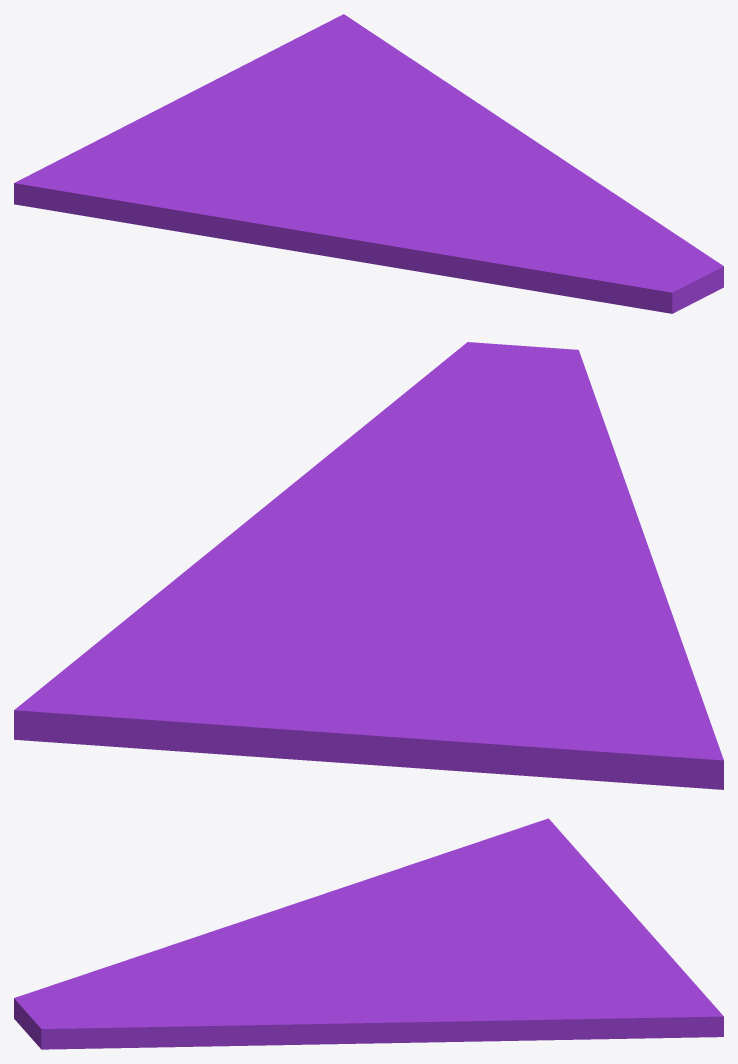
Rendered from StairsStep_29.fbx.
3 views of the same model, one above another, from view 1: azimuth 30°, elevation 25°; view 2: azimuth 150°, elevation 25°; view 3: azimuth 270°, elevation 25° (orthographic). The views are drawn at different scales.
Visible parts, largest first — view 1: StairsStep_29; view 2: StairsStep_29; view 3: StairsStep_29.
Boxes of the visible parts, bbox=[...] form: StairsStep_29: bbox=[14, 14, 723, 313]; StairsStep_29: bbox=[14, 342, 723, 789]; StairsStep_29: bbox=[14, 818, 723, 1049].
Size of the model in its own units: 395 by 17.94 by 563.
